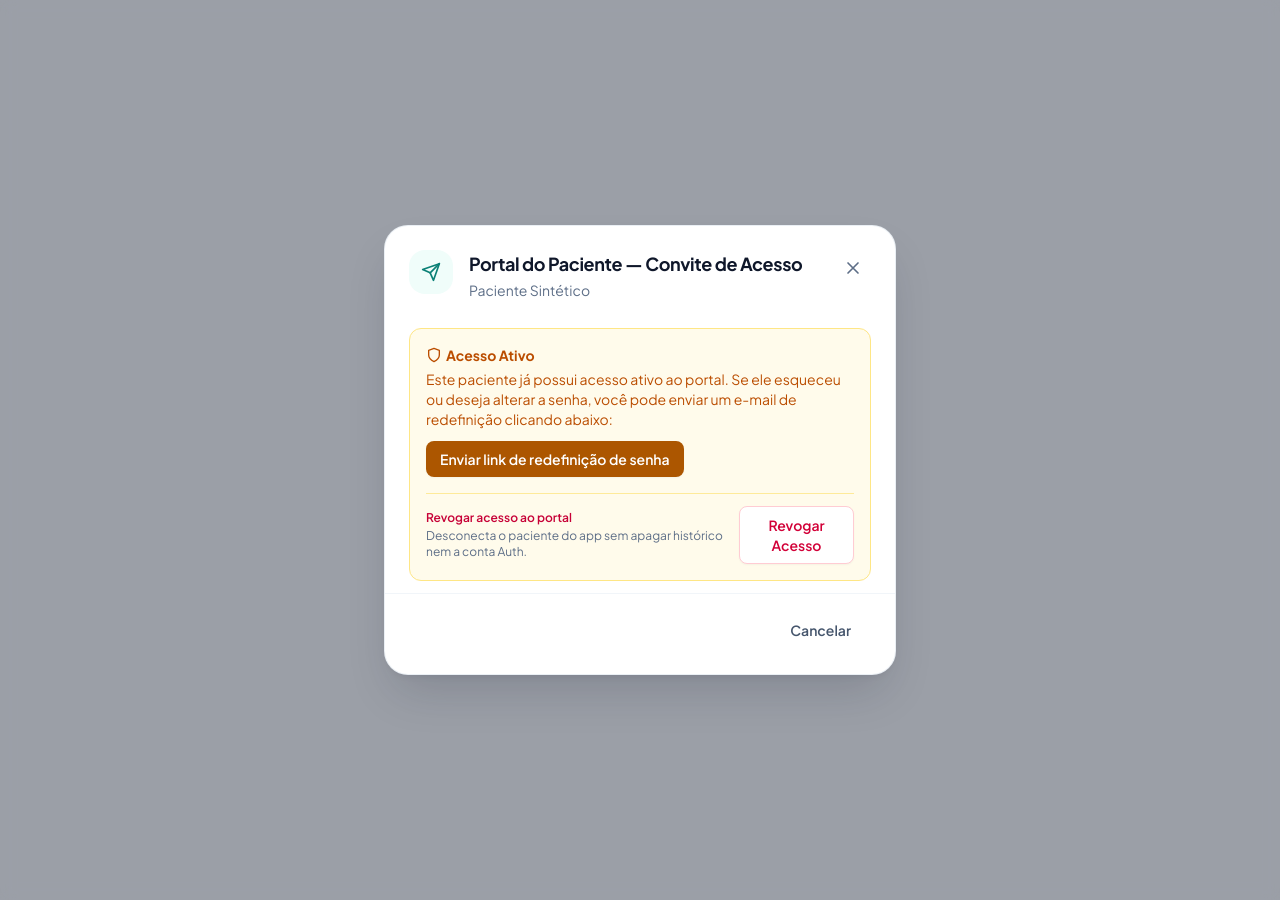
it: PatientAccessModal — revocation outcomes (R04) › authorization failure: a permission message, no success
Click the button "Revogar Acesso".
click(796, 535)  # box [739, 506, 854, 564]
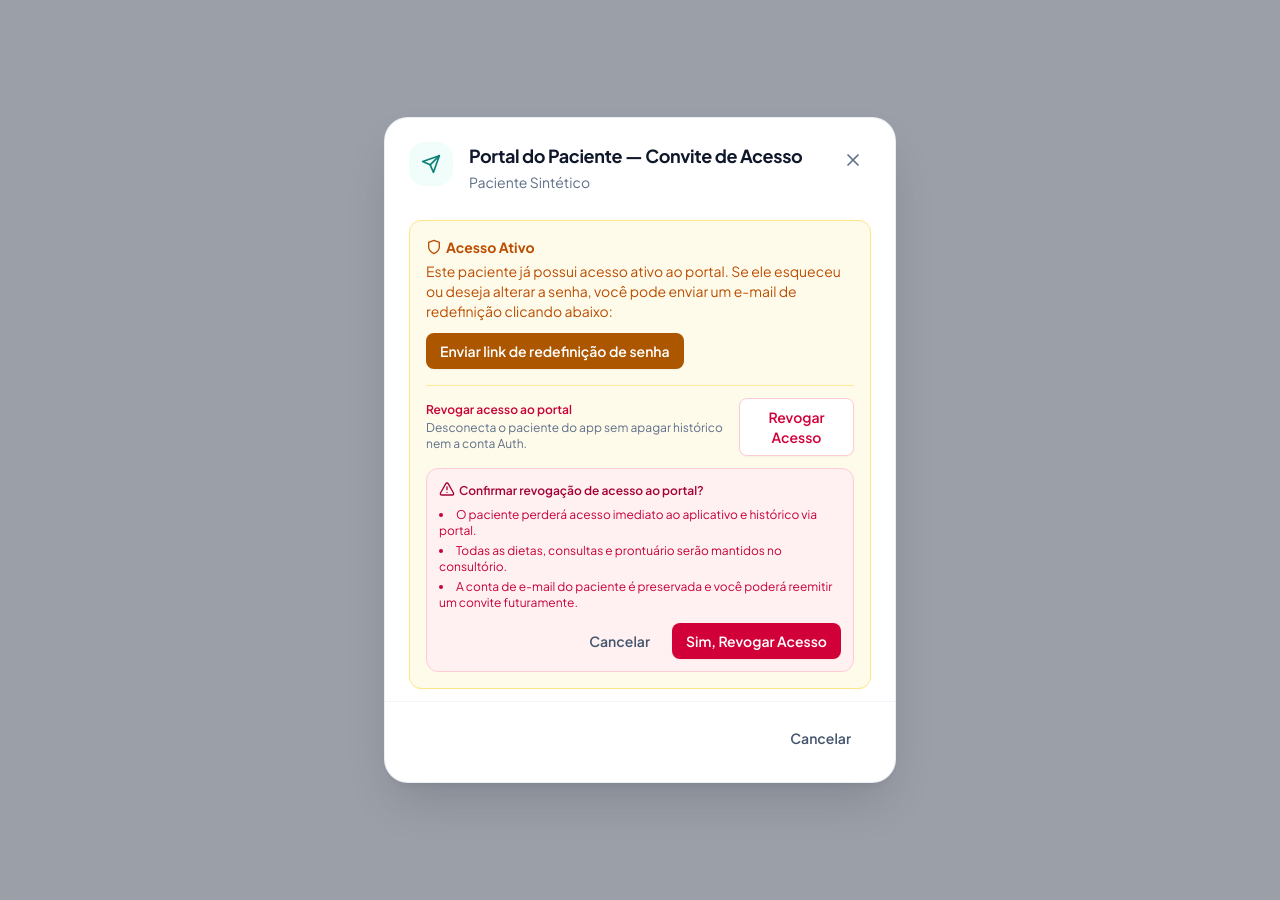
Click the button "Sim, Revogar Acesso".
click(756, 641)  # box [672, 623, 841, 659]
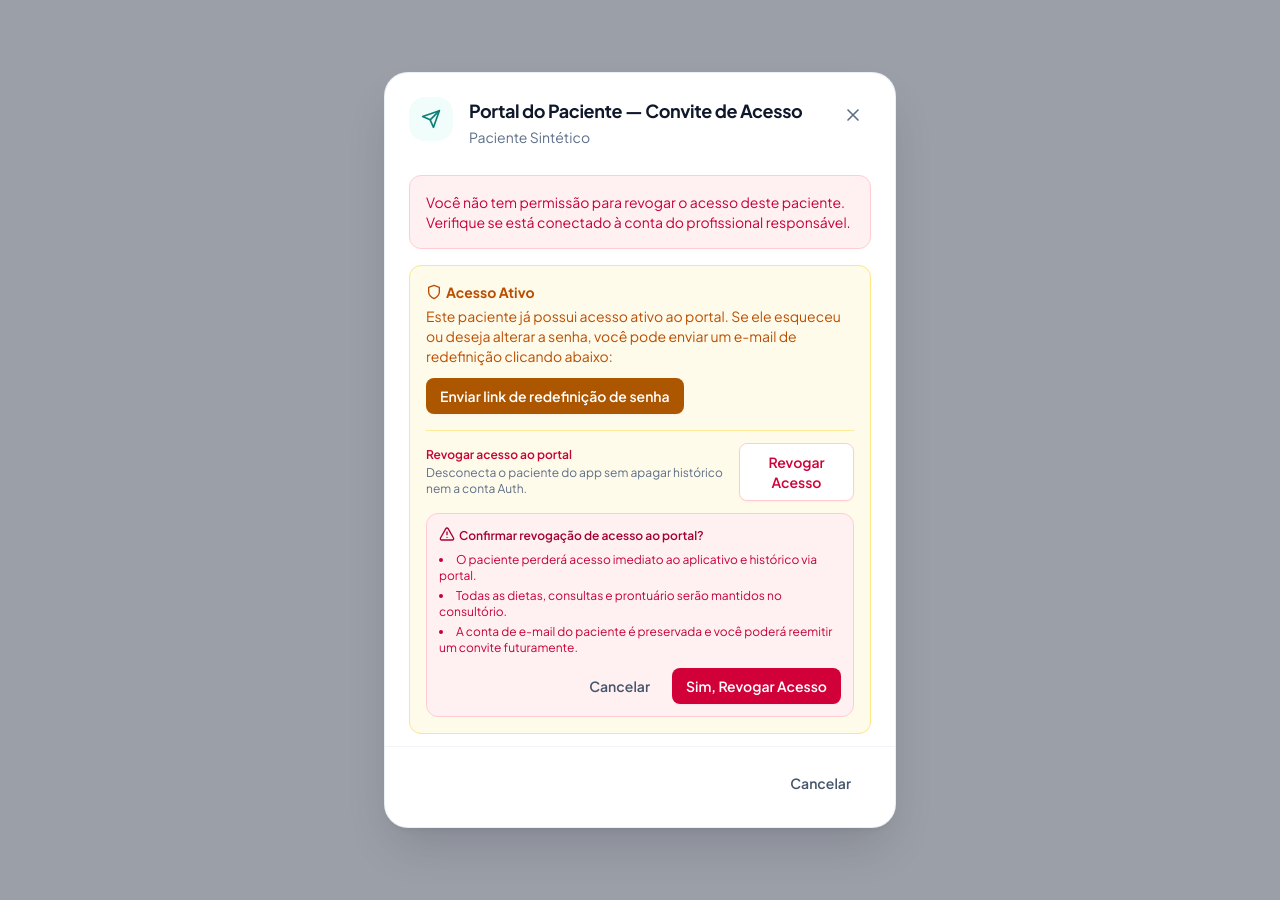
Expected: the text "não tem permissão para revogar" is shown, [426, 193, 851, 231]
